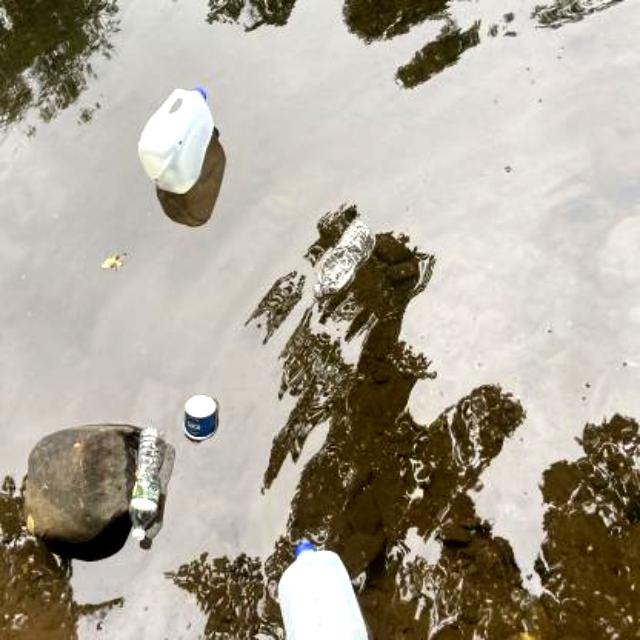Paper: (178, 386, 225, 446)
Plastic: (132, 73, 218, 197), (273, 535, 371, 639), (312, 208, 381, 300), (125, 421, 169, 545)
